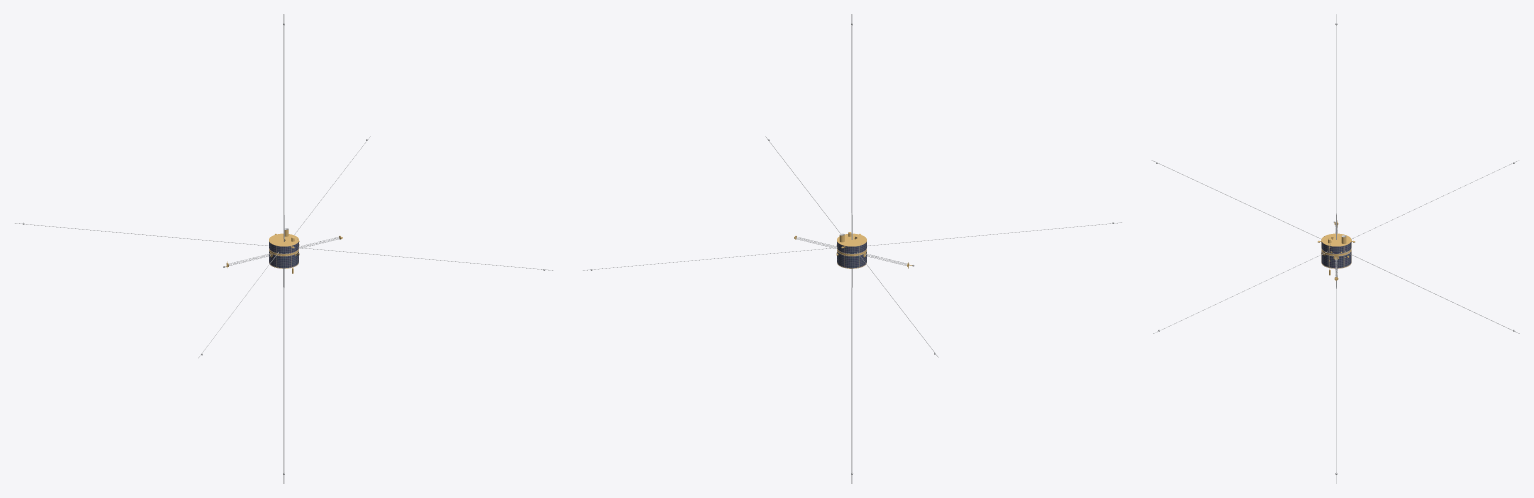
File: wind.glb
3 views of the same model, side by side, from view 1: azimuth 30°, elevation 25°; view 2: azimuth 150°, elevation 25°; view 3: azimuth 270°, elevation 25° (orthographic).
Parts seen in each view (by area): view 1: Layer_0; view 2: Layer_0; view 3: Layer_0.
Part boxes in pixels (box(x1,y1,x2,y2)): Layer_0: box(14, 14, 553, 483); Layer_0: box(582, 14, 1122, 483); Layer_0: box(1151, 14, 1519, 483).
Bounding box in the file's own units: 33.18 × 41.79 × 29.73.
6 materials, 1 textured.
